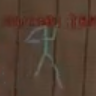hacks_2: (4, 15, 96, 89)
